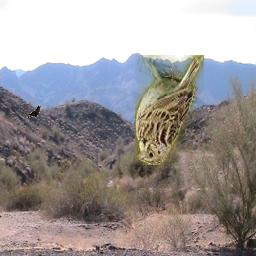Crow: (27, 106, 41, 119)
Sparrow: (136, 55, 205, 165)
